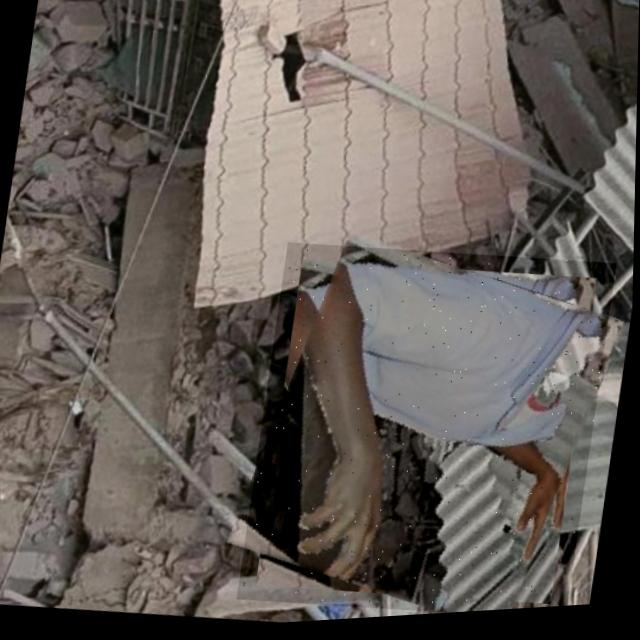Person in Rubble: (237, 230, 616, 628)
